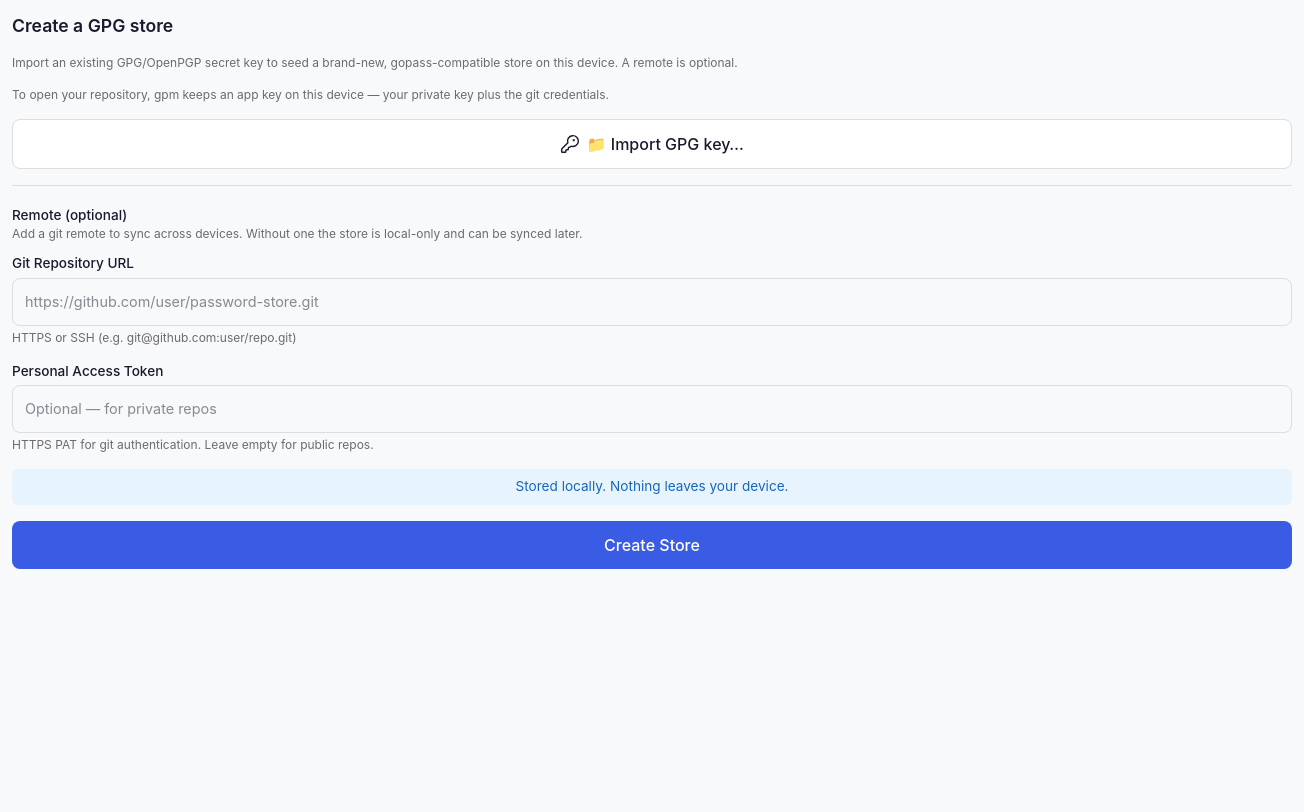
Test: CreateGpgFlow › blocks navigation when the first push fails (store is created locally)
Click the button "📁 Import GPG key…" at (652, 144), box [12, 119, 1292, 169]
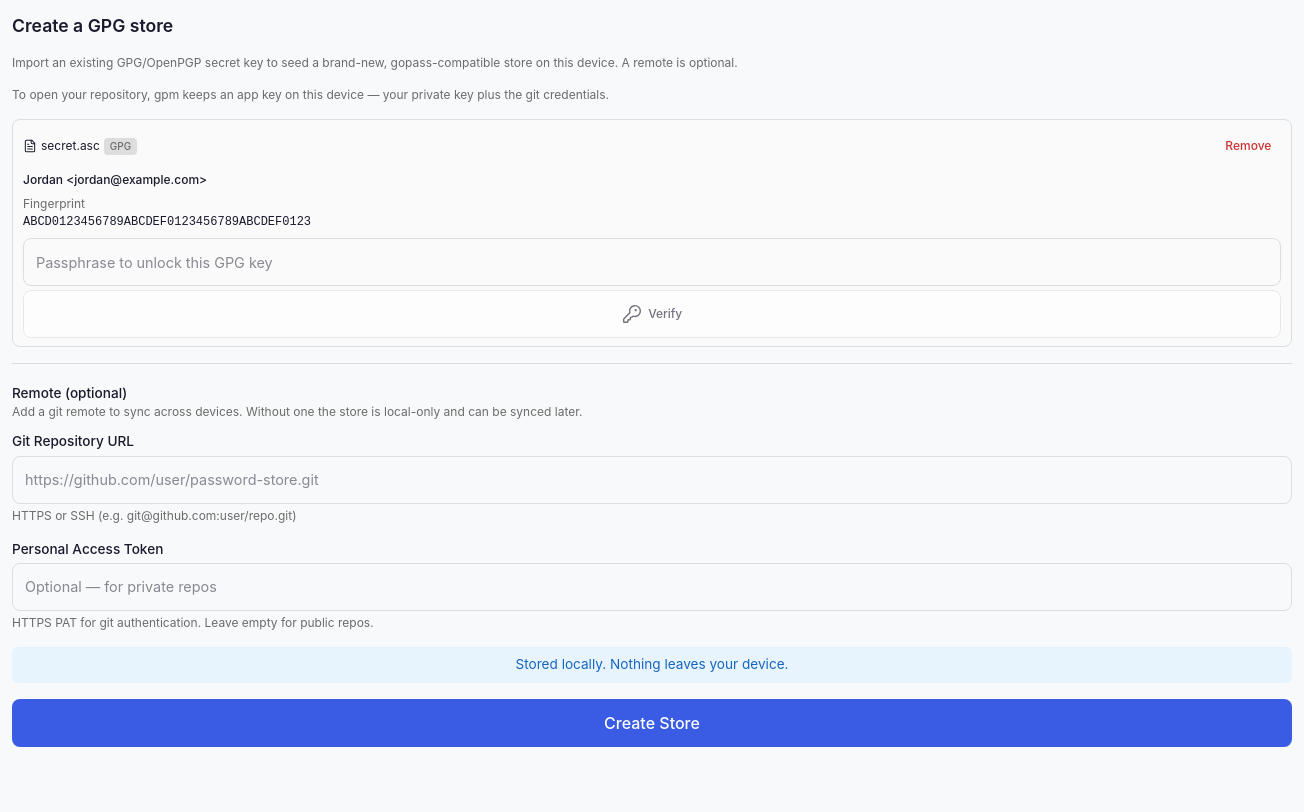
Now the text "jordan@example.com" is shown, box [23, 172, 207, 187]
Now the text "ABCD0123" is shown, box [23, 215, 311, 229]
Type "s2k-pass" into the password field with id "gpg-verify-passphrase" at (652, 262), box [23, 238, 1281, 286]
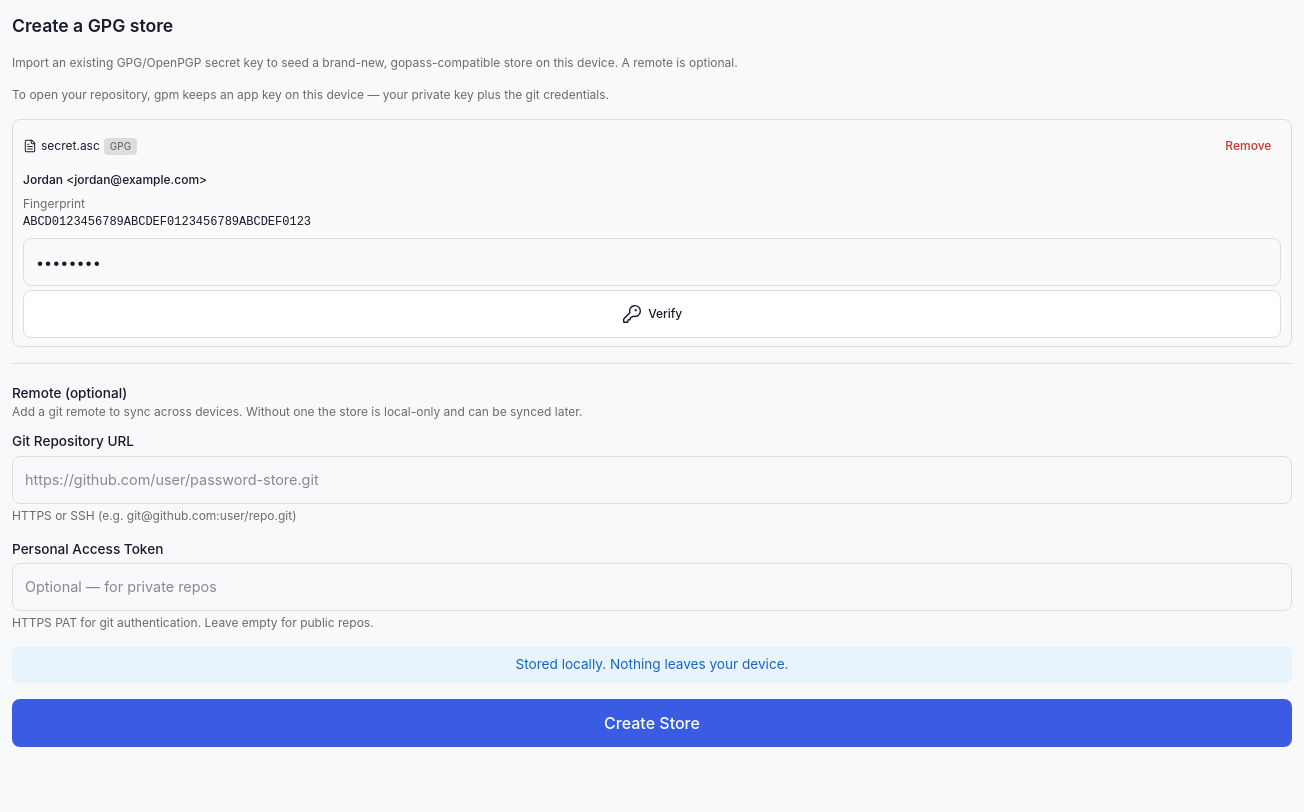
Click the button "Verify" at (652, 314), box [23, 290, 1281, 338]
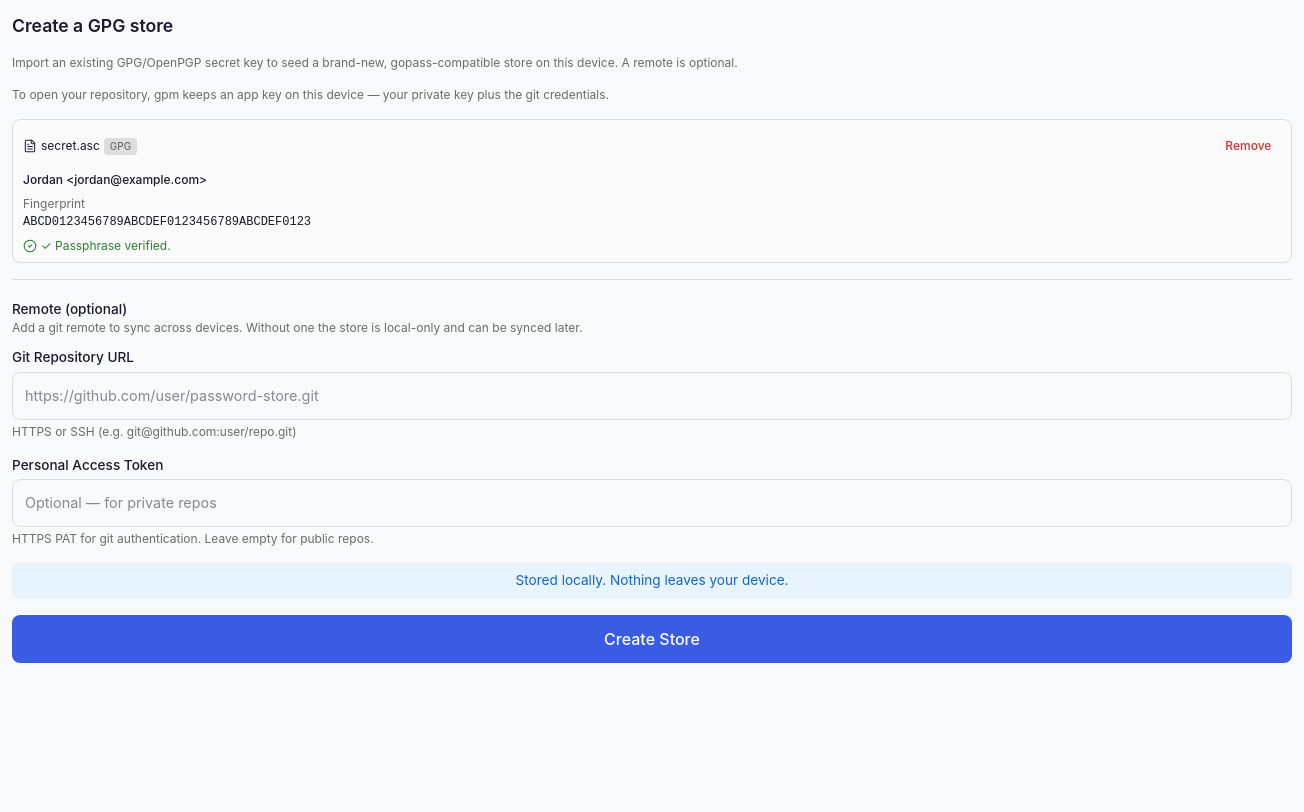
Type "https://example.com/r.git" into the field with id "repo-url" at (652, 396), box [12, 372, 1292, 420]
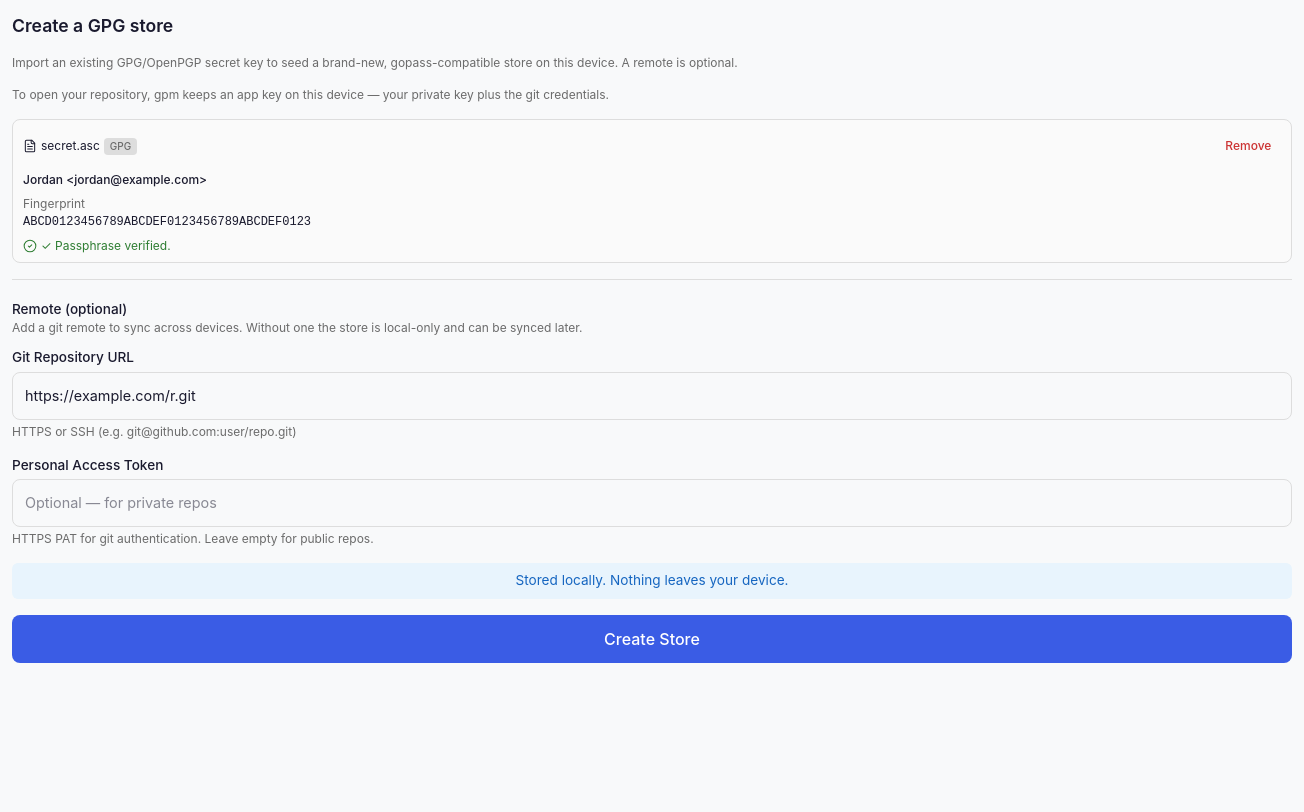
Submit the form
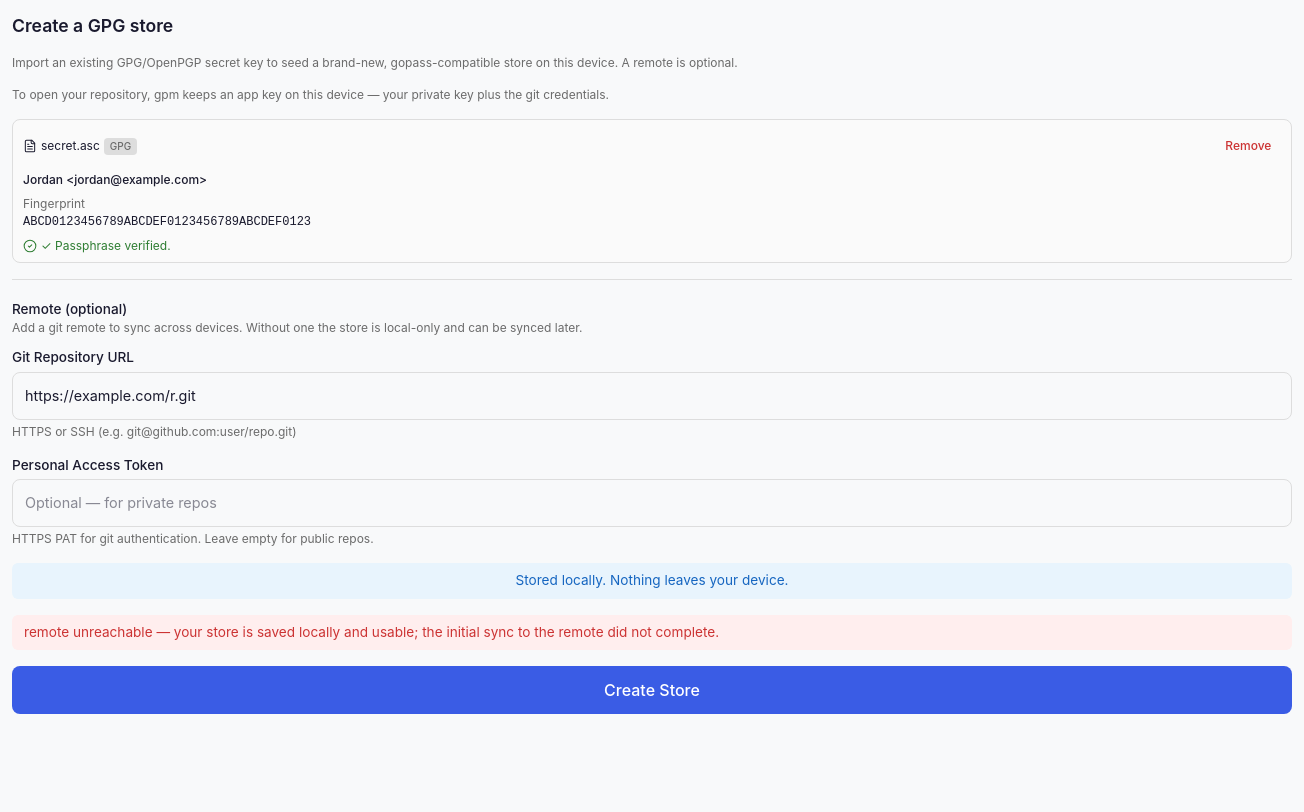
Now the 2nd message shows "remote unreachable", box [24, 624, 719, 640]
Now the 2nd message shows "saved locally", box [24, 624, 719, 640]
